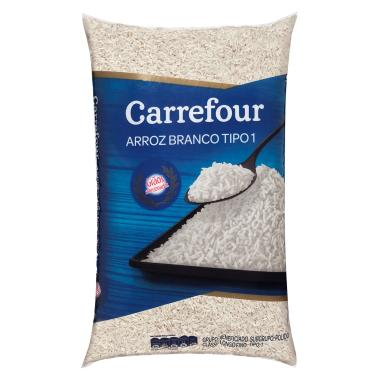rice package: (84, 16, 295, 365)
